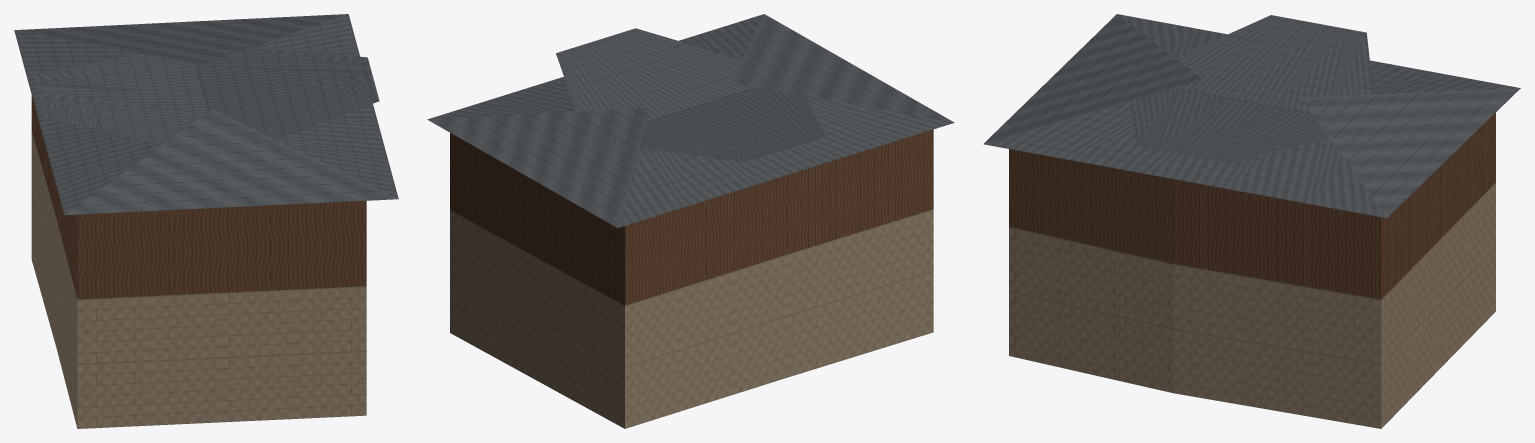
Rendered from bld_c3_20_459.gltf.
3 views of the same model, side by side, from view 1: azimuth 30°, elevation 25°; view 2: azimuth 150°, elevation 25°; view 3: azimuth 270°, elevation 25° (orthographic). The views are drawn at different scales.
Parts seen in each view (by area): view 1: bld_c3_20_459; view 2: bld_c3_20_459; view 3: bld_c3_20_459.
Boxes of the visible parts, x1=… form: bld_c3_20_459: x1=14, y1=14, x2=398, y2=428; bld_c3_20_459: x1=427, y1=14, x2=954, y2=428; bld_c3_20_459: x1=983, y1=14, x2=1520, y2=428.
Bounding box in the file's own units: 16.07 × 9.1 × 17.87.
3 materials, 3 textured.
